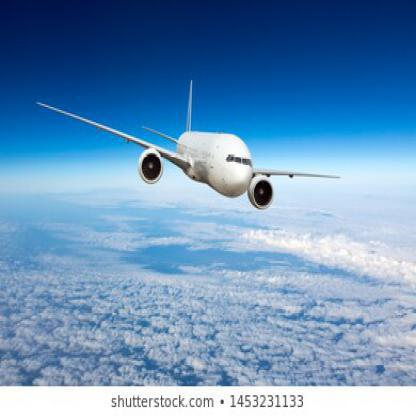CIV_Plane: (29, 74, 345, 212)
